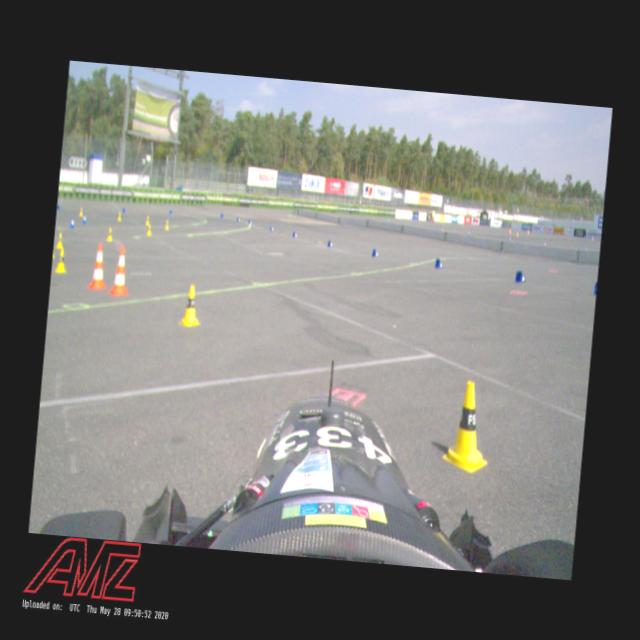blue_cone: (514, 270, 526, 284), (434, 258, 444, 270), (370, 248, 380, 258), (68, 216, 76, 228), (81, 213, 87, 224), (326, 239, 334, 247), (291, 230, 298, 238), (269, 225, 275, 231)
large_orange_cone: (108, 245, 132, 298), (86, 241, 110, 291)
yellow_cone: (441, 377, 494, 472), (178, 284, 202, 328), (54, 248, 68, 274), (56, 232, 64, 250), (106, 226, 113, 242), (145, 223, 152, 236), (163, 218, 170, 230), (116, 210, 122, 222), (144, 214, 150, 226)
